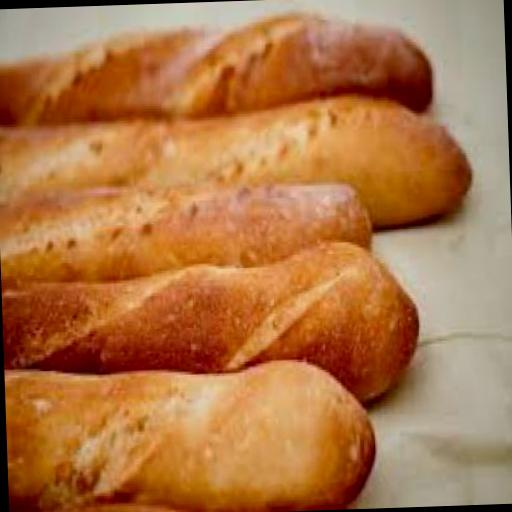biodegradable: (0, 231, 421, 419), (0, 85, 473, 237), (4, 354, 376, 512), (0, 8, 433, 130), (0, 167, 371, 292)
